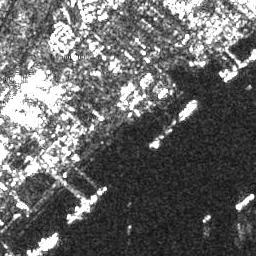ship: (178, 100, 197, 122), (235, 192, 253, 212), (39, 236, 59, 250), (223, 69, 239, 84)
